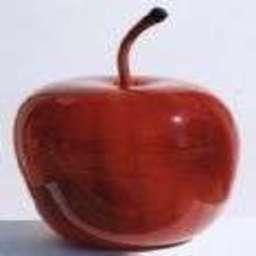apple: (9, 73, 241, 249)
